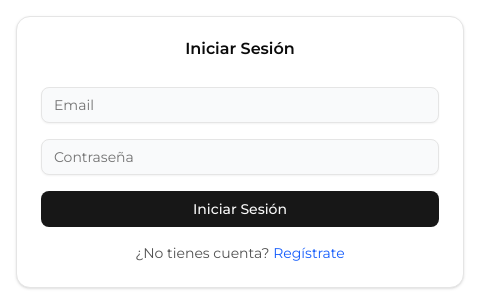
Test: LoginForm › should show loading state during form submission
This screenshot has width=481, height=306.
Type "test@example.com" into the field with placeholder "Email".
click(240, 105); type("test@example.com")  # box x1=41 y1=87 x2=439 y2=123
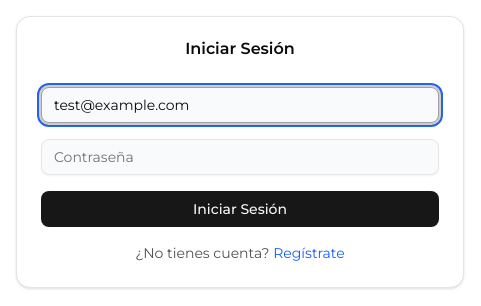
Type "password123" into the password field with placeholder "Contraseña".
click(240, 157); type("password123")  # box x1=41 y1=139 x2=439 y2=175
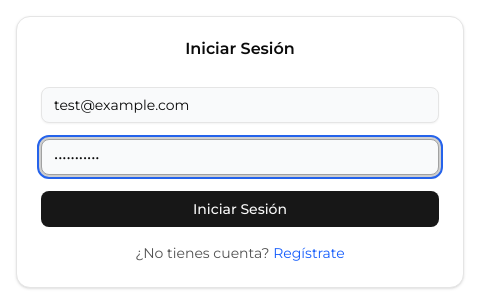
Click the button "Iniciar Sesión".
click(240, 209)  # box x1=41 y1=191 x2=439 y2=227
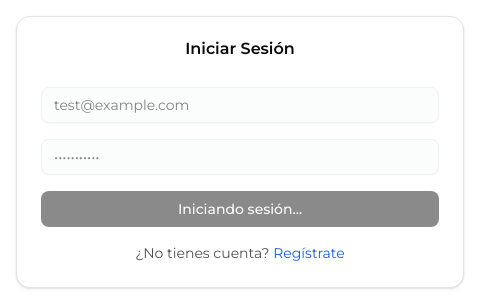
Expected: the button "Iniciando sesión..." is disabled, x1=41 y1=191 x2=439 y2=227
